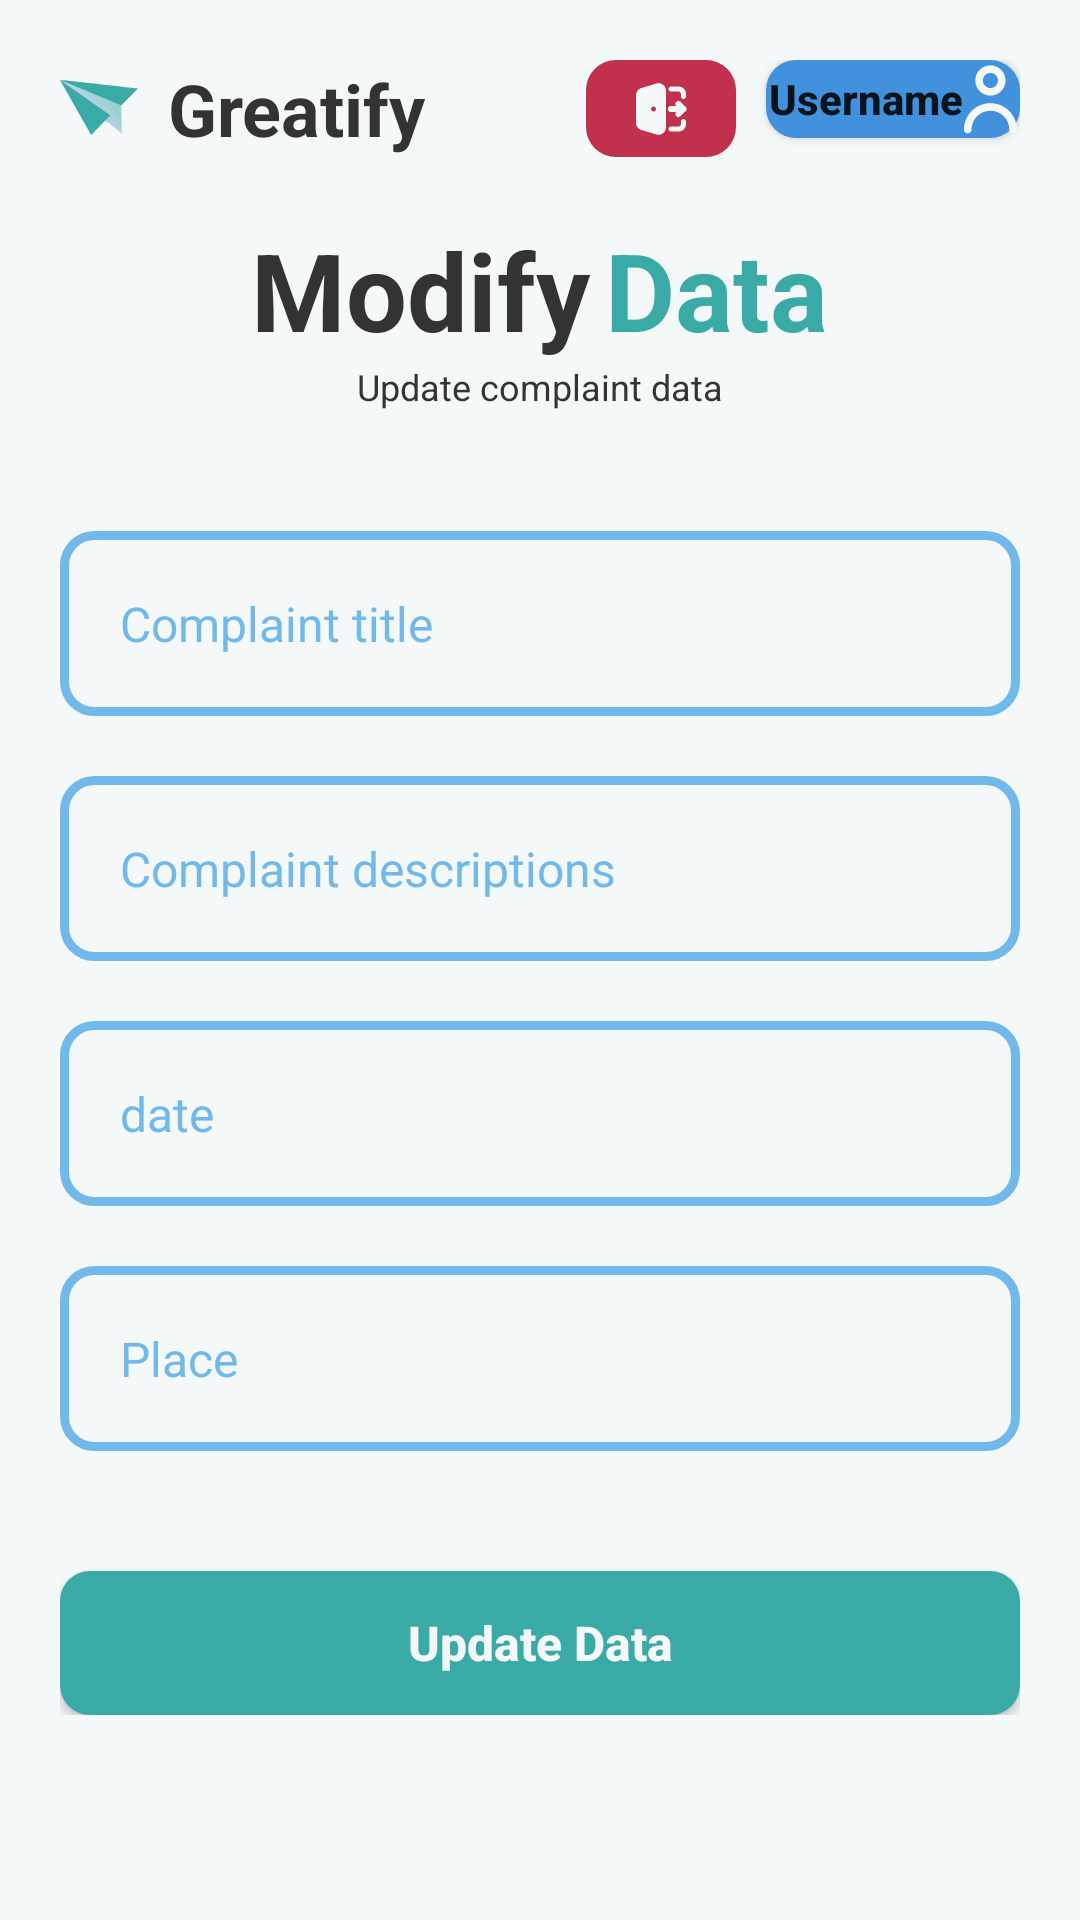

Where to tap for icons on this 1080px x 1920px app screen, as point (x, y):
signout: point (661, 108)
